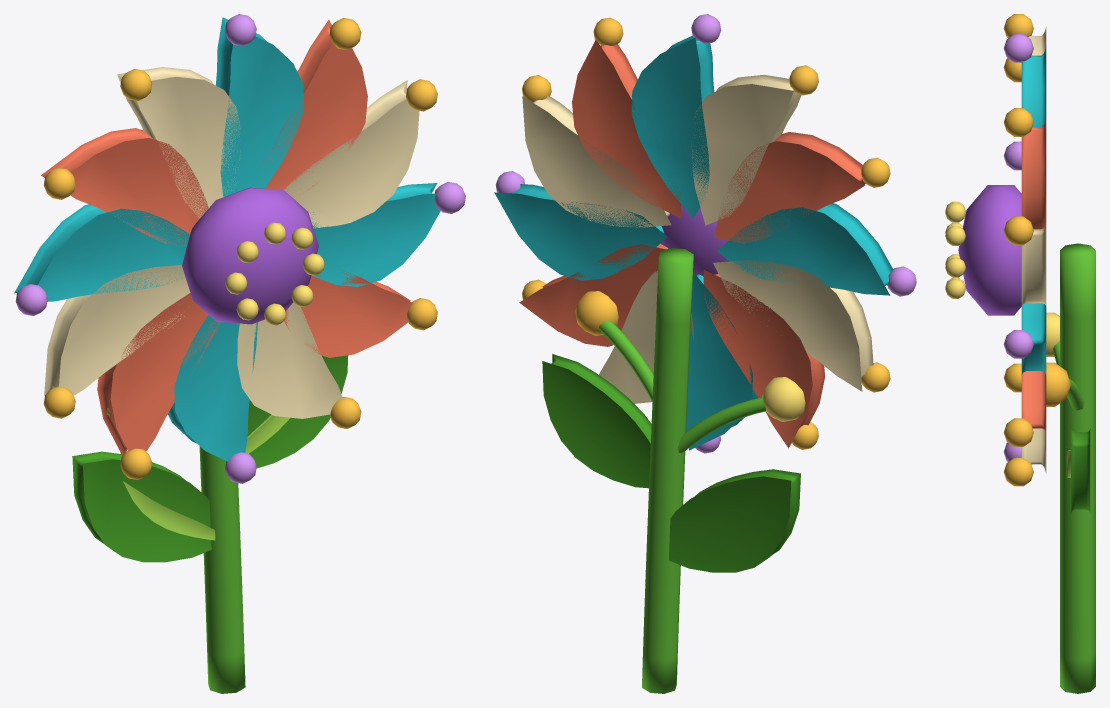
File: spiral_bloom.glb
3 renders of one model, left to right at view 1: azimuth 30°, elevation 25°; view 2: azimuth 150°, elevation 25°; view 3: azimuth 270°, elevation 25°, orthographic. The views are drawn at different scales.
Visible parts, largest first — view 1: spiral_bloom; view 2: spiral_bloom; view 3: spiral_bloom.
Boxes of the visible parts, x1,y1,x2,y2 form: spiral_bloom: [14, 14, 465, 693]; spiral_bloom: [494, 14, 916, 693]; spiral_bloom: [945, 14, 1095, 693].
Size of what is drawn, in the model's own units: 1.72 by 2.59 by 0.548.
Materials: 1 (1 with a texture image).
